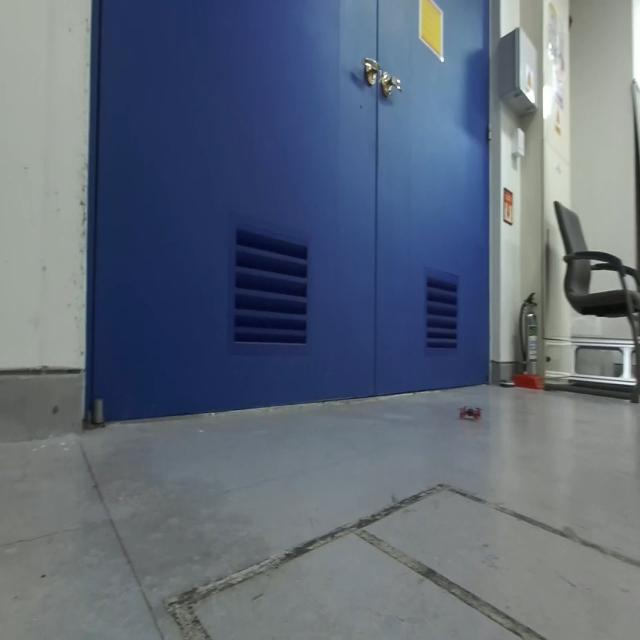crazyflie: (457, 397, 484, 429)
